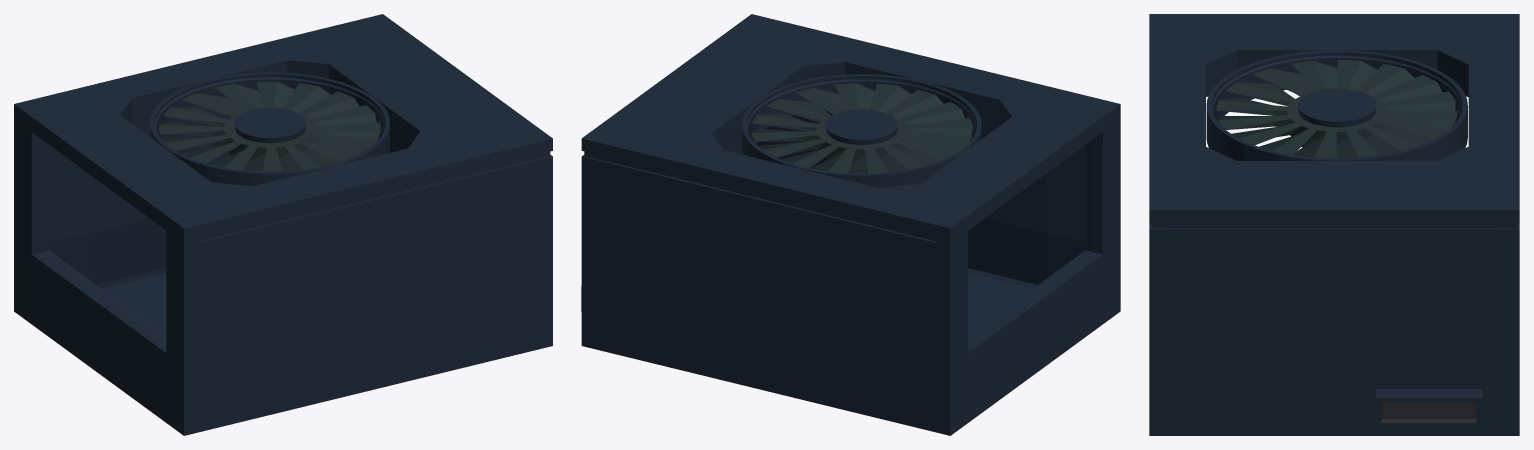
File: PSU.glb
3 renders of one model, left to right at view 1: azimuth 30°, elevation 25°; view 2: azimuth 150°, elevation 25°; view 3: azimuth 270°, elevation 25°, orthographic. The views are drawn at different scales.
Visible parts, largest first — view 1: Cube.149, Gear.019, Cylinder.059, Cube.151; view 2: Cube.149, Gear.019, Cylinder.059, Cube.151; view 3: Cube.149, Gear.019, Cylinder.059, Cube.151, Cube.150.
Boxes of the visible parts, x1=… form: Cube.149: x1=14, y1=14, x2=552, y2=435; Gear.019: x1=159, y1=81, x2=380, y2=171; Cylinder.059: x1=150, y1=72, x2=389, y2=186; Cube.151: x1=97, y1=50, x2=443, y2=196; Cube.149: x1=581, y1=14, x2=1120, y2=435; Gear.019: x1=751, y1=83, x2=972, y2=173; Cylinder.059: x1=742, y1=74, x2=981, y2=187; Cube.151: x1=688, y1=51, x2=1034, y2=198; Cube.149: x1=1149, y1=14, x2=1519, y2=435; Gear.019: x1=1216, y1=60, x2=1457, y2=158; Cylinder.059: x1=1206, y1=50, x2=1467, y2=160; Cube.151: x1=1198, y1=47, x2=1475, y2=163; Cube.150: x1=1375, y1=389, x2=1482, y2=426.
Size of the model in its own units: 0.2483 by 0.1278 by 0.1894.
Materials: 1 (1 with a texture image).
